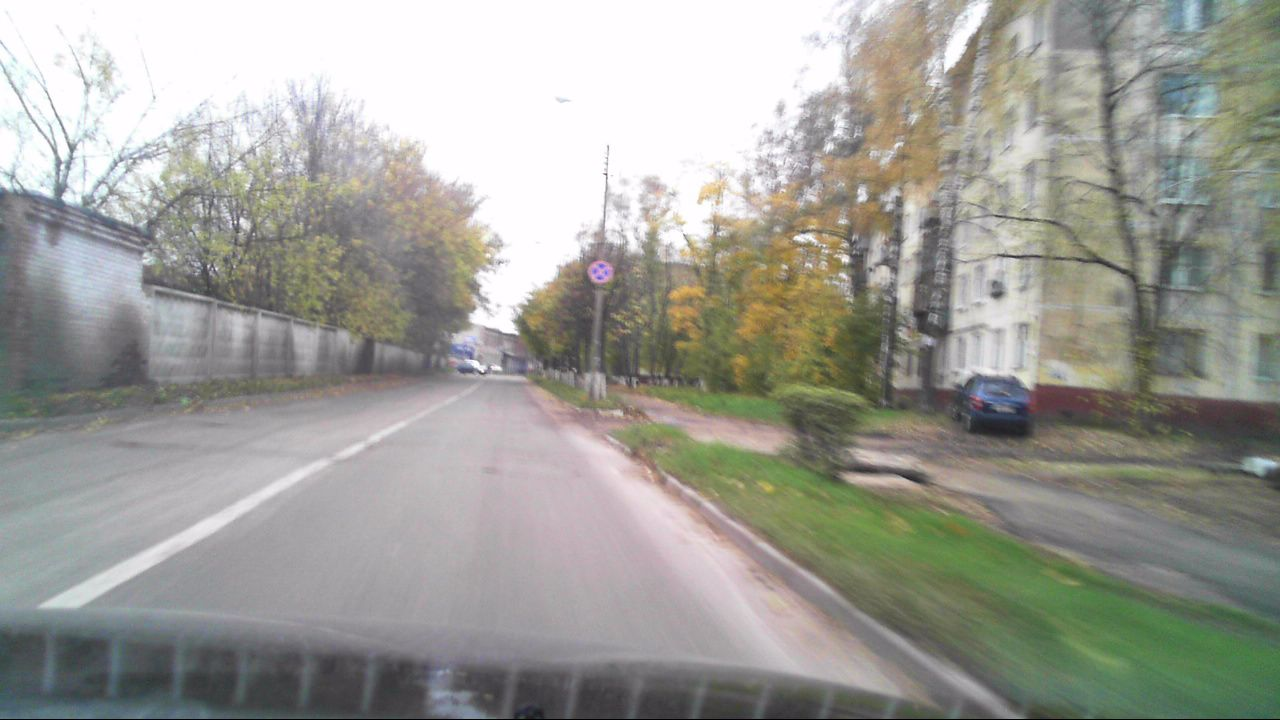No Parking: (587, 260, 612, 284)
